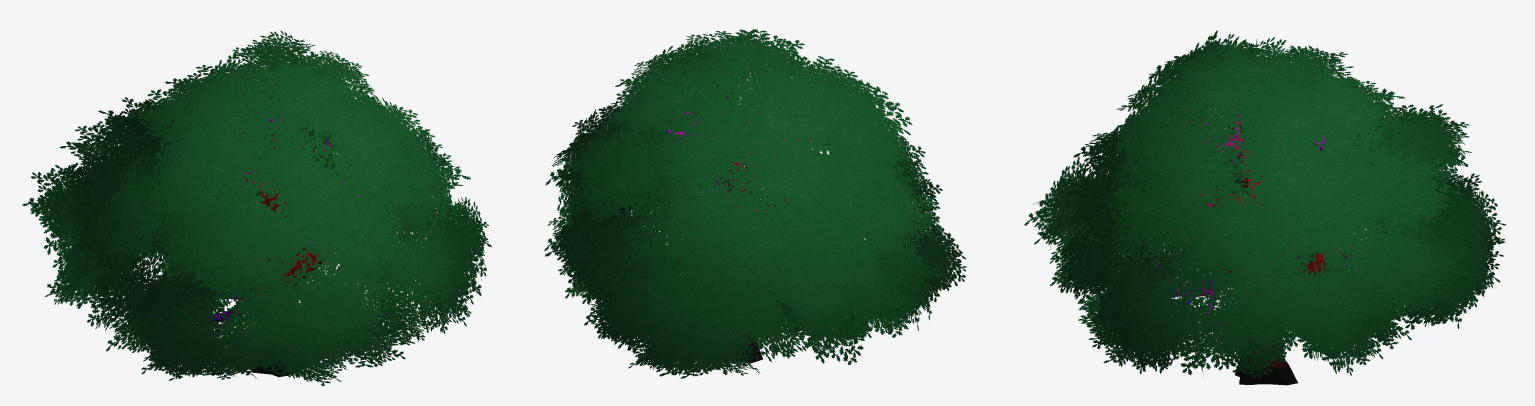
The model's file is PT_Oak_Tree_02_green.fbx.
3 views of the same model, side by side, from view 1: azimuth 30°, elevation 25°; view 2: azimuth 150°, elevation 25°; view 3: azimuth 270°, elevation 25° (orthographic). The views are drawn at different scales.
Parts seen in each view (by area): view 1: PT_Oak_Tree_02_green_LOD0; view 2: PT_Oak_Tree_02_green_LOD0; view 3: PT_Oak_Tree_02_green_LOD0.
Boxes of the visible parts, bbox=[...] form: PT_Oak_Tree_02_green_LOD0: bbox=[22, 31, 491, 385]; PT_Oak_Tree_02_green_LOD0: bbox=[544, 29, 966, 378]; PT_Oak_Tree_02_green_LOD0: bbox=[1024, 30, 1506, 385].
Size of what is drawn, in the model's own units: 1665 by 1261 by 1705.
